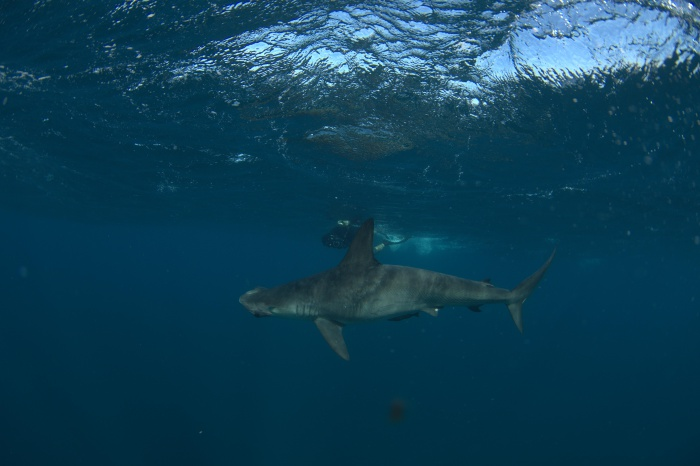Hammer: (222, 211, 559, 366)
